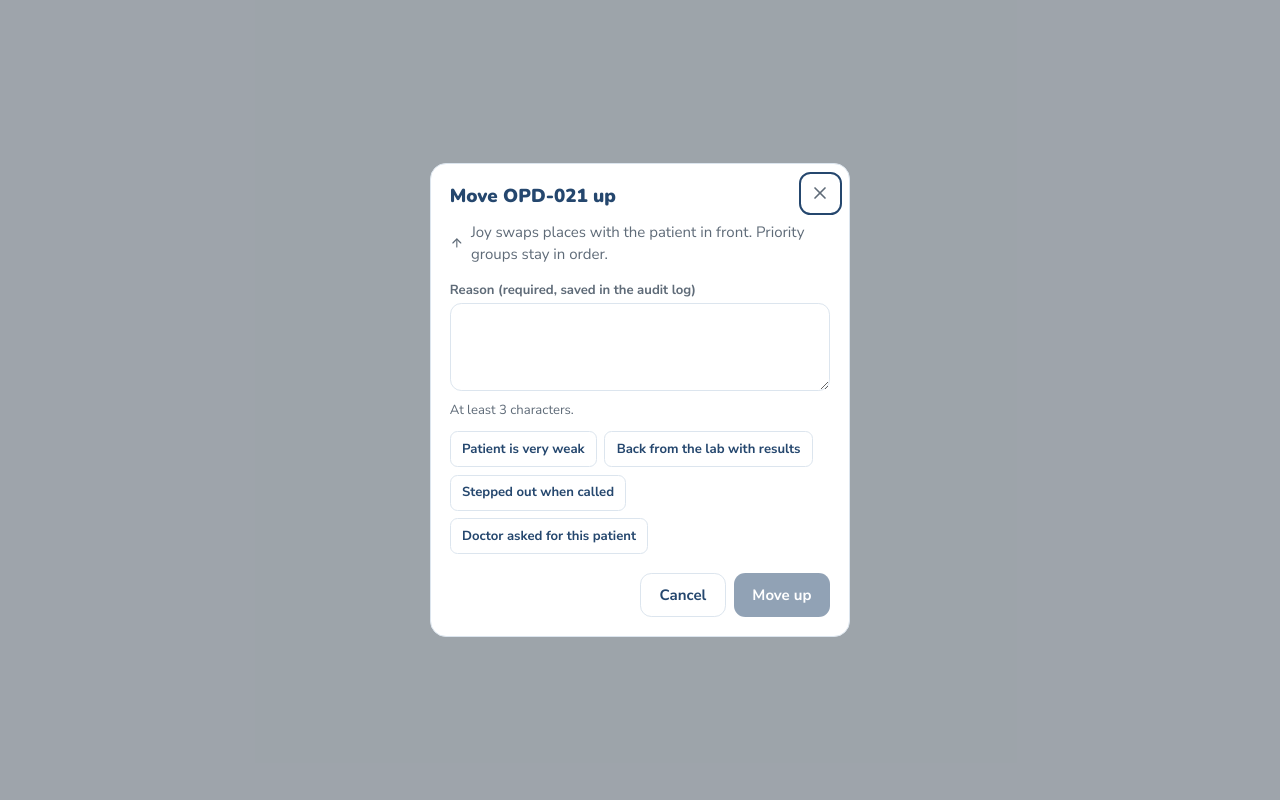
ReorderDialog › shows the server error and stays open
Type "Very weak" into the text box labelled "Reason (required, saved in the audit log)" at (640, 347), box 450,303 -> 830,391
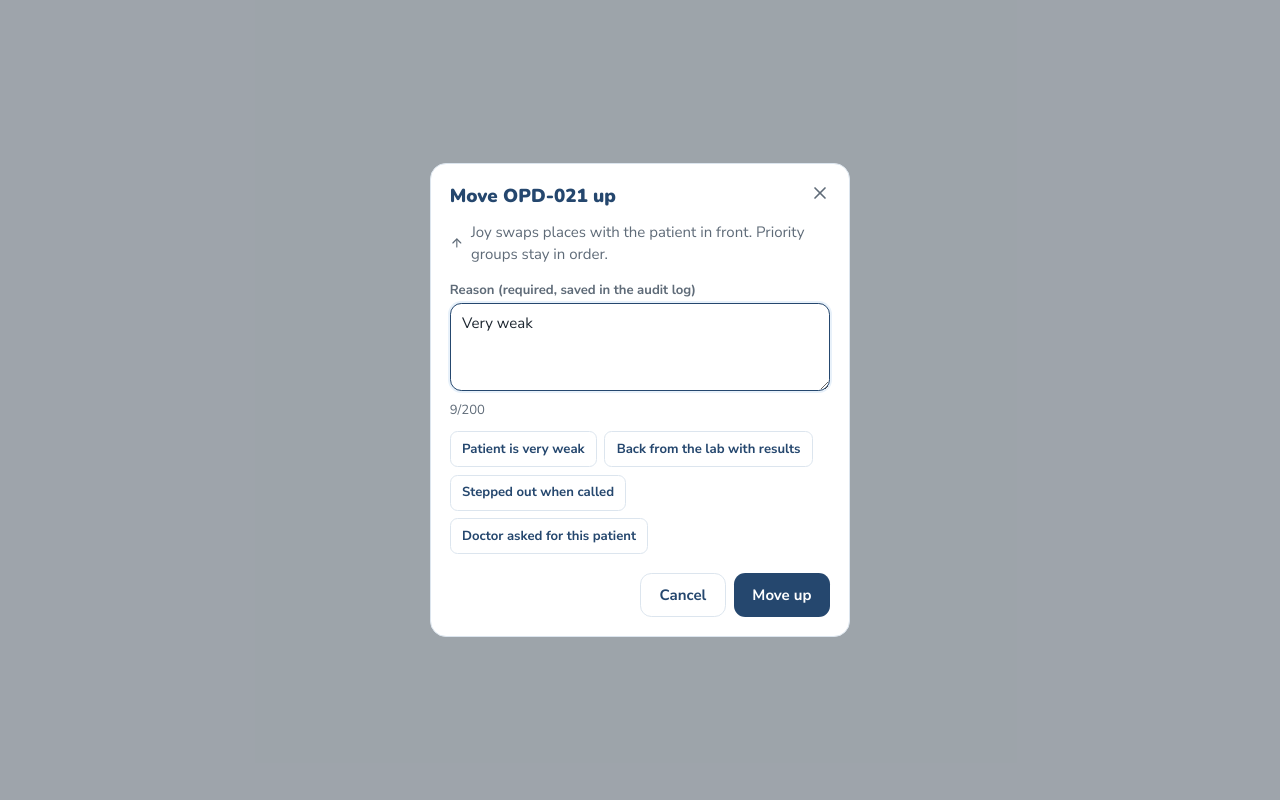
Click the button "Move up" at (782, 595), box 734,573 -> 830,617
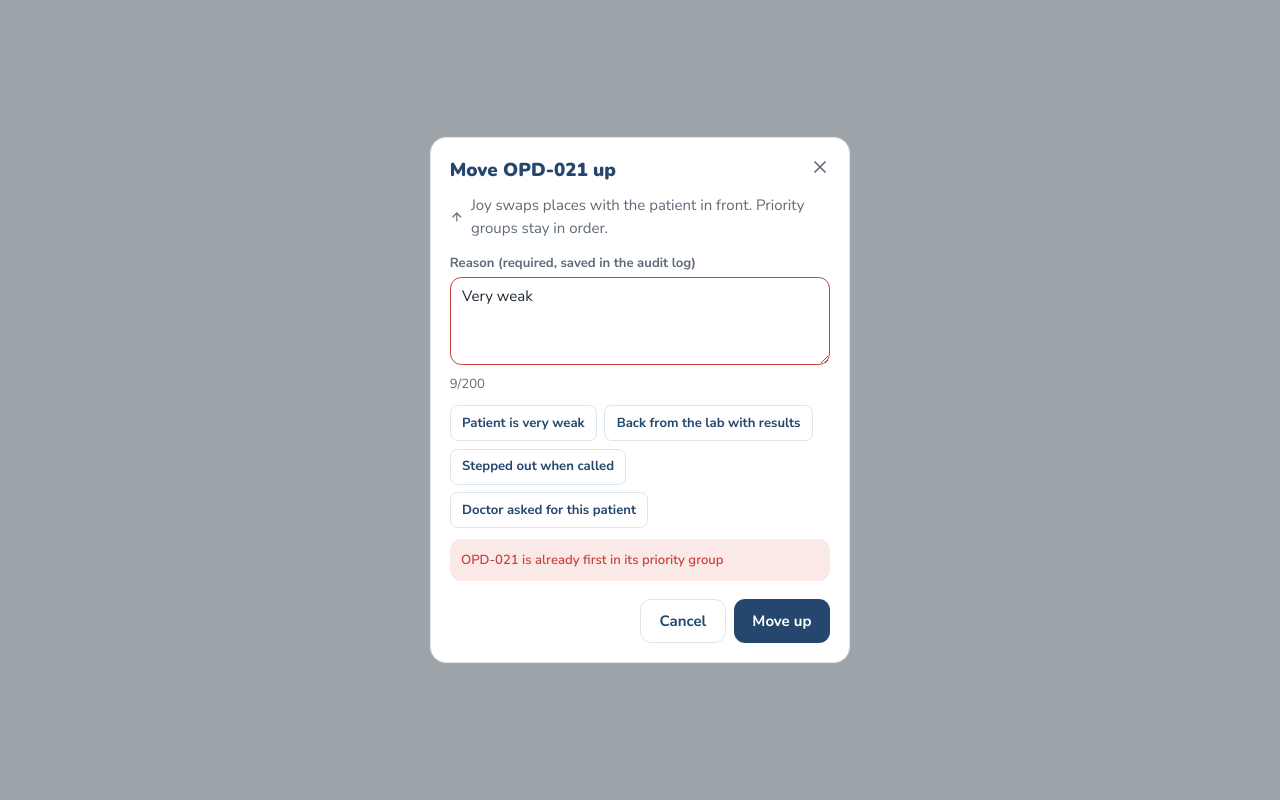
Expected: the button "Move up" is enabled, 734,599 -> 830,643
Expected: the message shows "already first in its priority group", 461,550 -> 724,568
